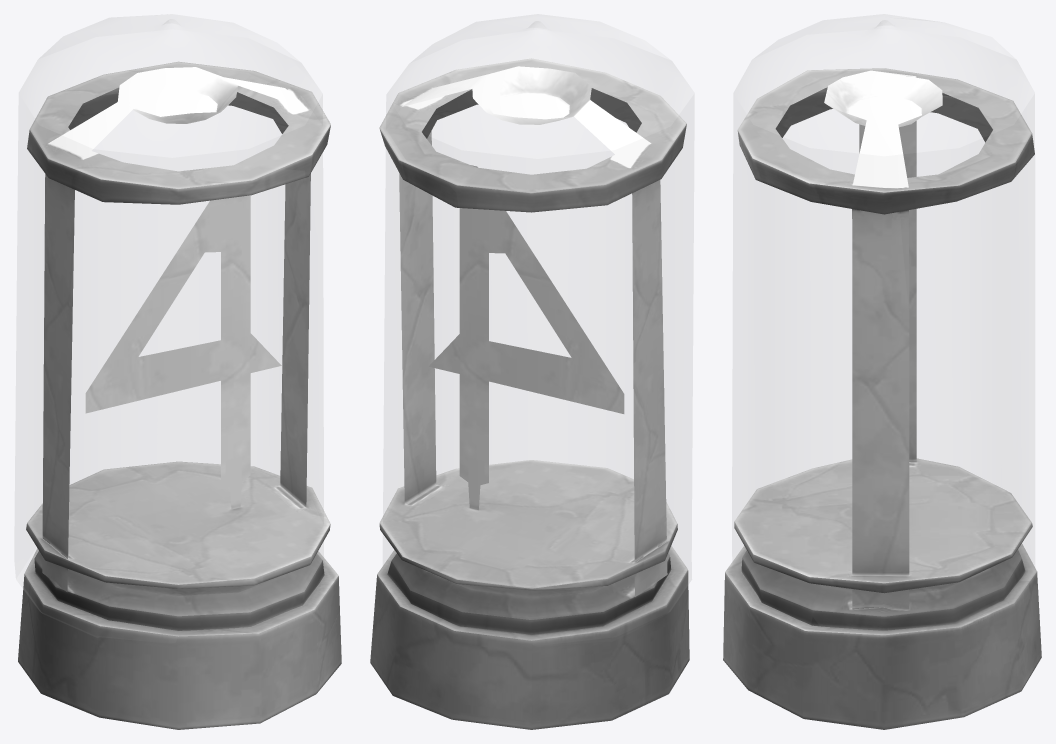
File: obj_num04_alt.gltf
3 renders of one model, left to right at view 1: azimuth 30°, elevation 25°; view 2: azimuth 150°, elevation 25°; view 3: azimuth 270°, elevation 25°, orthographic.
Parts seen in each view (by area): view 1: obj_num04_alt, obj_num04_glass; view 2: obj_num04_alt, obj_num04_glass; view 3: obj_num04_alt, obj_num04_glass.
Part boxes in pixels (x1,y1,x2,y2): obj_num04_alt: [18, 61, 341, 729]; obj_num04_glass: [15, 14, 323, 611]; obj_num04_alt: [370, 58, 689, 729]; obj_num04_glass: [383, 14, 693, 612]; obj_num04_alt: [723, 68, 1041, 729]; obj_num04_glass: [732, 14, 1034, 567].
Size of what is drawn, in the model's own units: 0.329 by 0.7182 by 0.3257.
2 materials, 1 textured.
